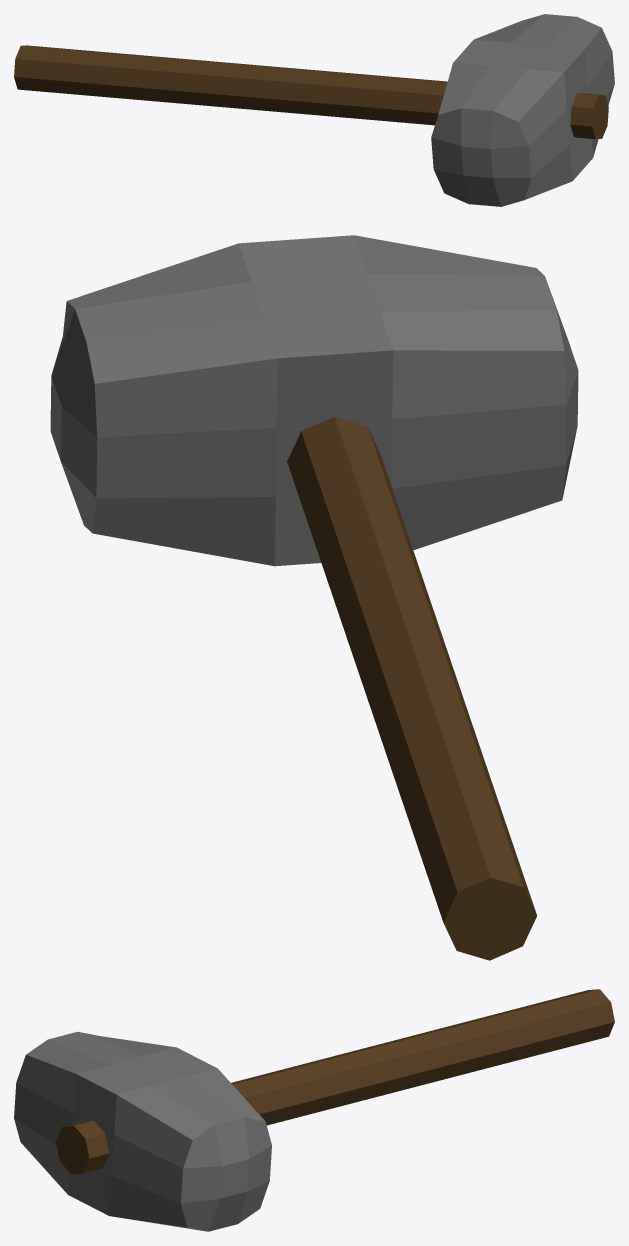
File: Hammer(Pickup).fbx
The picture shows the model from 3 angles, top to bottom: view 1: azimuth 30°, elevation 25°; view 2: azimuth 150°, elevation 25°; view 3: azimuth 270°, elevation 25°; orthographic projection. The views are drawn at different scales.
Visible parts, largest first — view 1: Hammer_1; view 2: Hammer_1; view 3: Hammer_1.
Part boxes in pixels (left/top/right/bottom): Hammer_1: left=14, top=14, right=614, bottom=206; Hammer_1: left=50, top=235, right=578, bottom=960; Hammer_1: left=14, top=989, right=614, bottom=1231.
Bounding box in the file's own units: 40.67 × 10.72 × 45.77.
